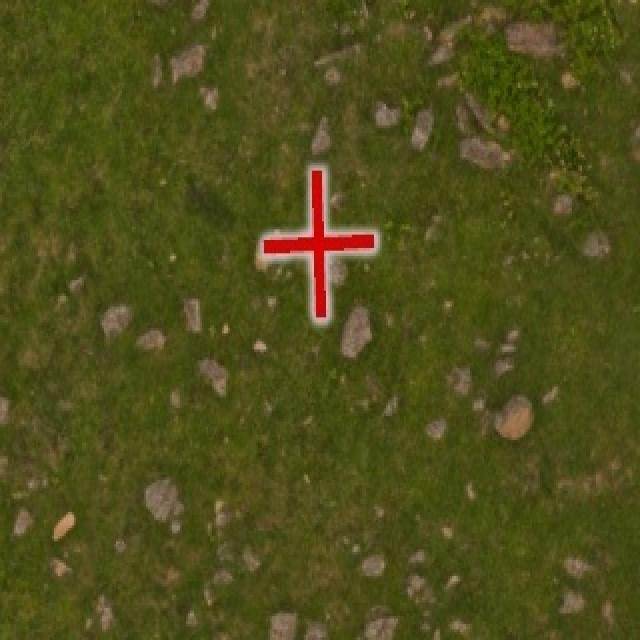x_marker: (263, 169, 375, 319)
